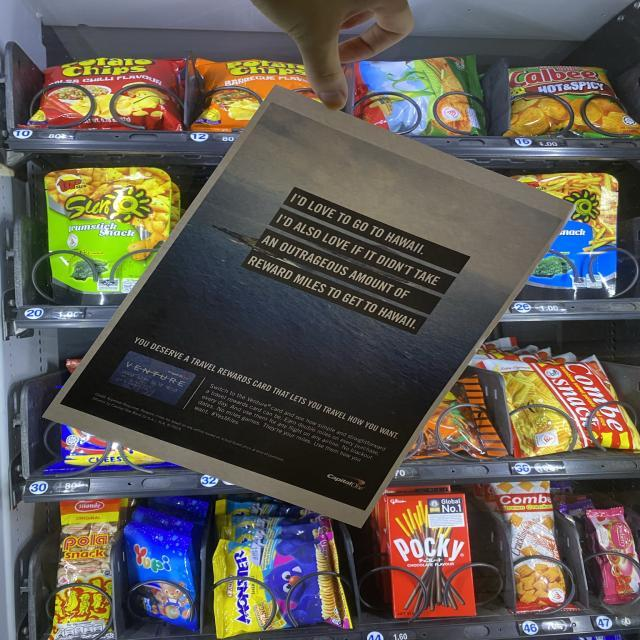document: (47, 88, 573, 525)
